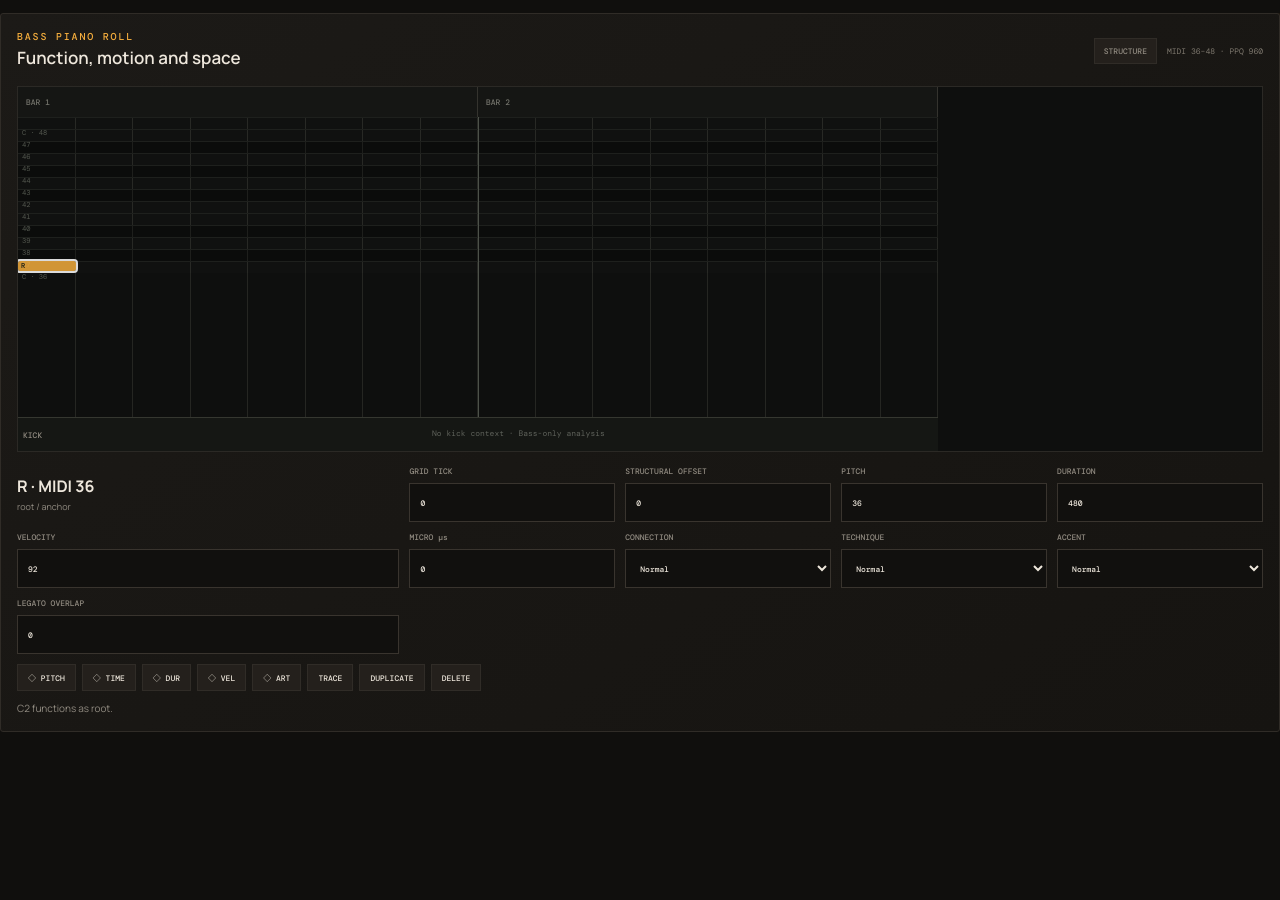
Test case: BassPianoRoll › opens the structured generation trace for a selected note
Click the button "TRACE" at (330,678), box [307,664,353,691]
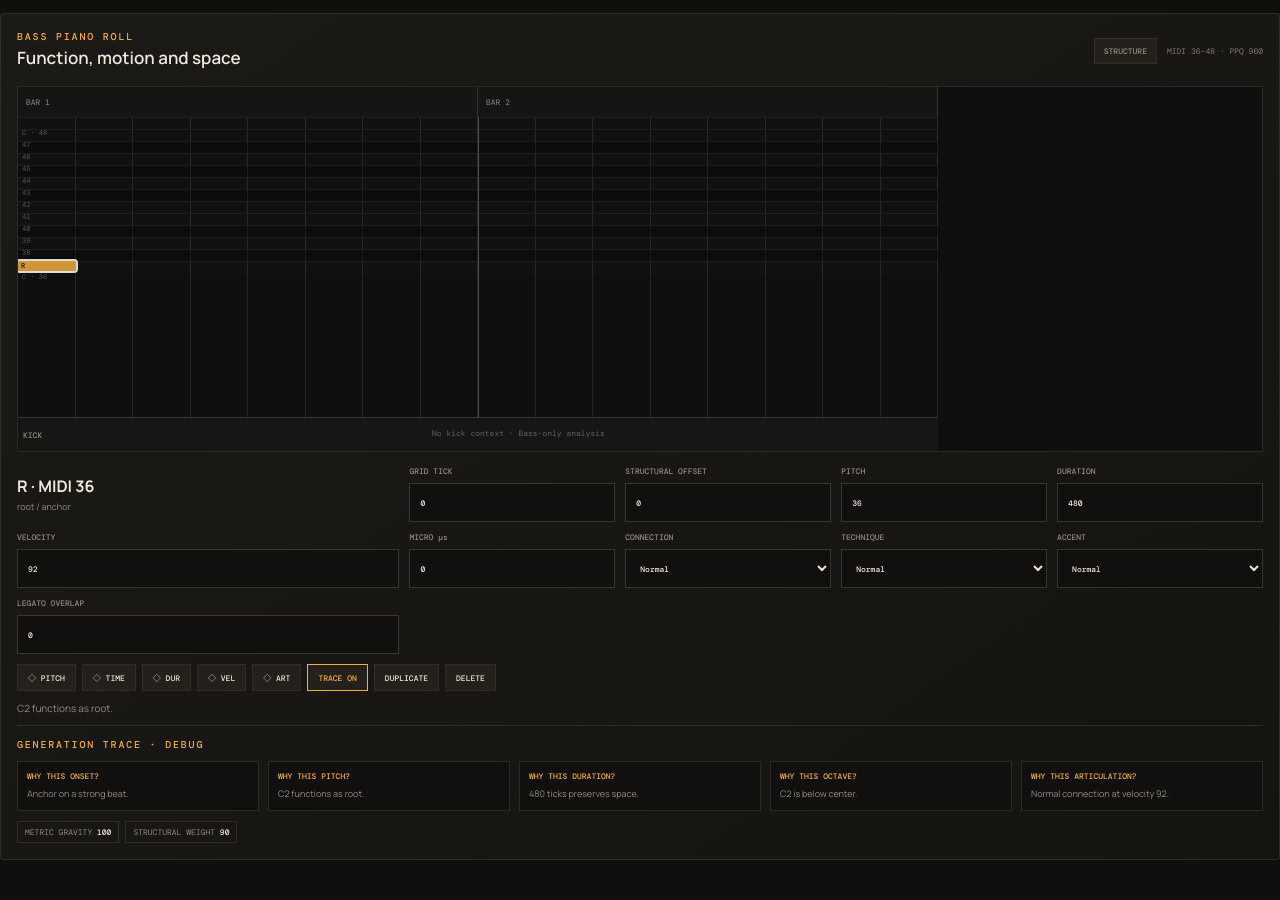
Expected: the text "WHY THIS ONSET?" is shown, [27,771,99,781]
Expected: the text "Anchor on a strong beat." is shown, [27,787,129,800]
Expected: the text "metric gravity 100" is shown, [17,820,119,842]
